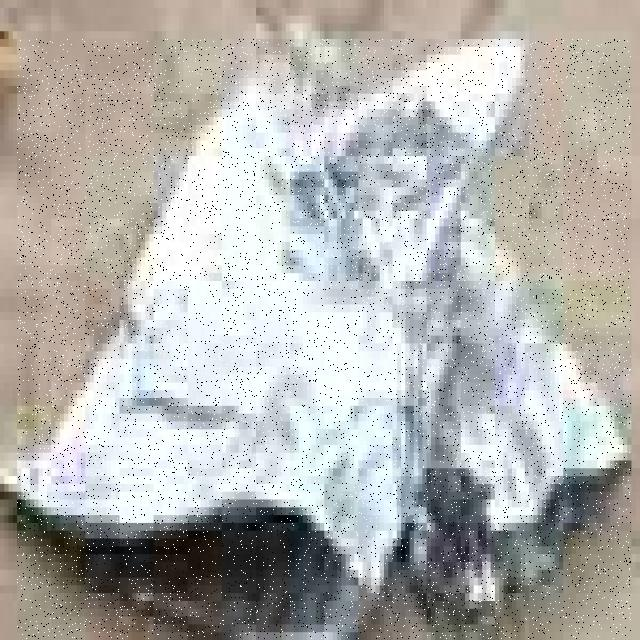metal: (17, 39, 631, 640)
